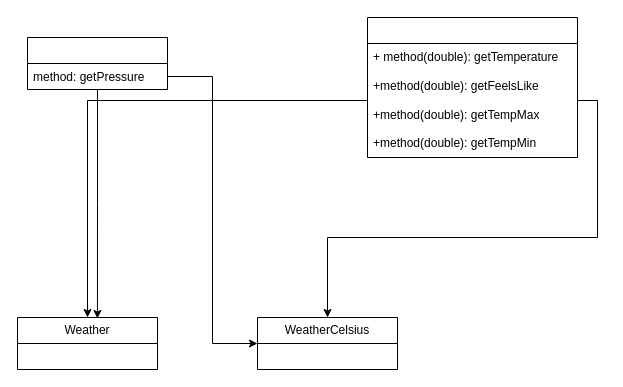
This 623x387 diagram has some shape labels left out. Here are the shapes that lost their labels. From the top down, the box of each, then its label:
(26, 36, 168, 90): WeatherBase
(366, 16, 578, 158): IWeather
